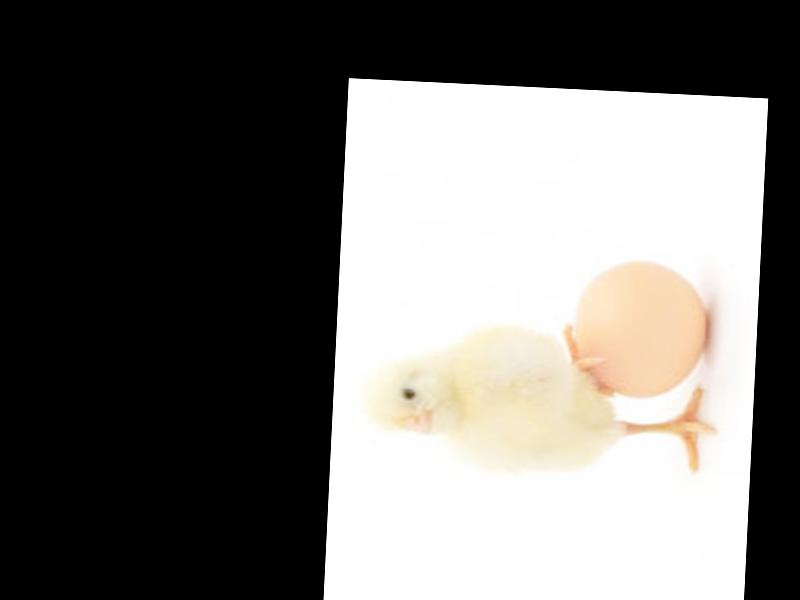Eggs: (564, 256, 709, 403)
